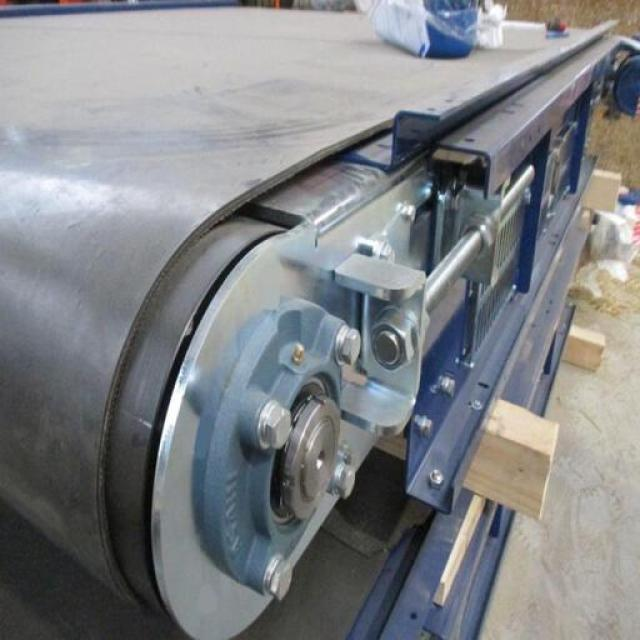conveyor: (0, 2, 632, 638)
